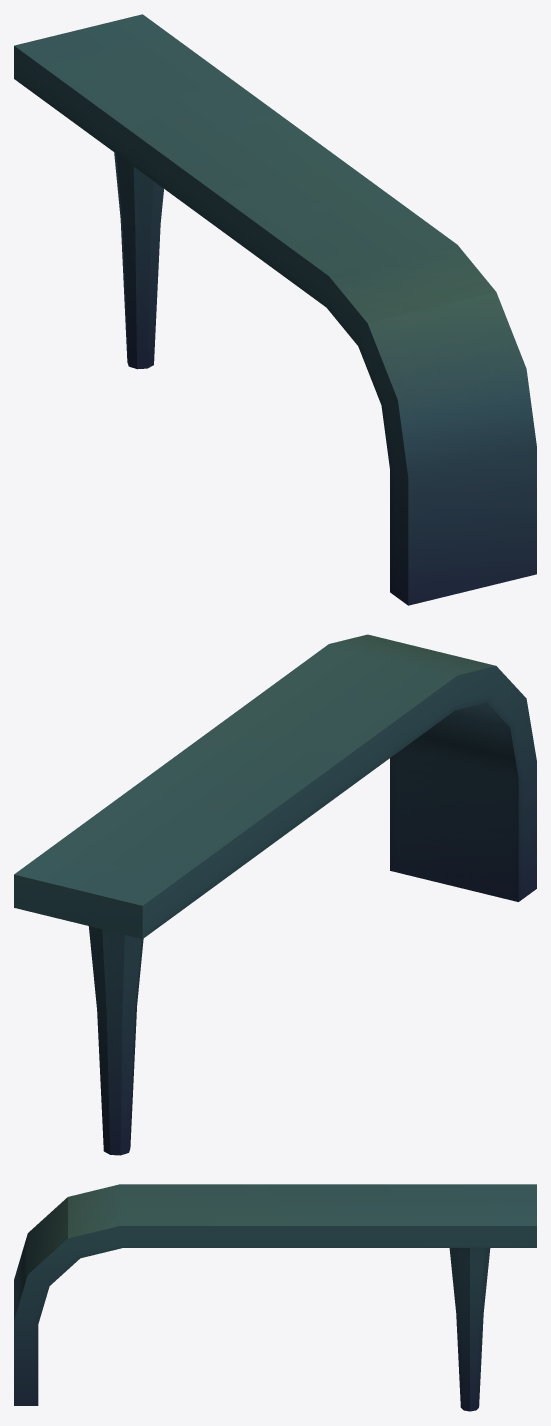
The model's file is Window_stands_mesh.fbx.
The picture shows the model from 3 angles, top to bottom: view 1: azimuth 30°, elevation 25°; view 2: azimuth 150°, elevation 25°; view 3: azimuth 270°, elevation 25°; orthographic projection. The views are drawn at different scales.
Parts seen in each view (by area): view 1: polySurface269; view 2: polySurface269; view 3: polySurface269.
Boxes of the visible parts, x1,y1,x2,y2 form: polySurface269: (14,14,536,605); polySurface269: (14,634,536,1155); polySurface269: (14,1184,536,1411).
Size of the model in its own units: 2.19 by 4.86 by 11.6.
